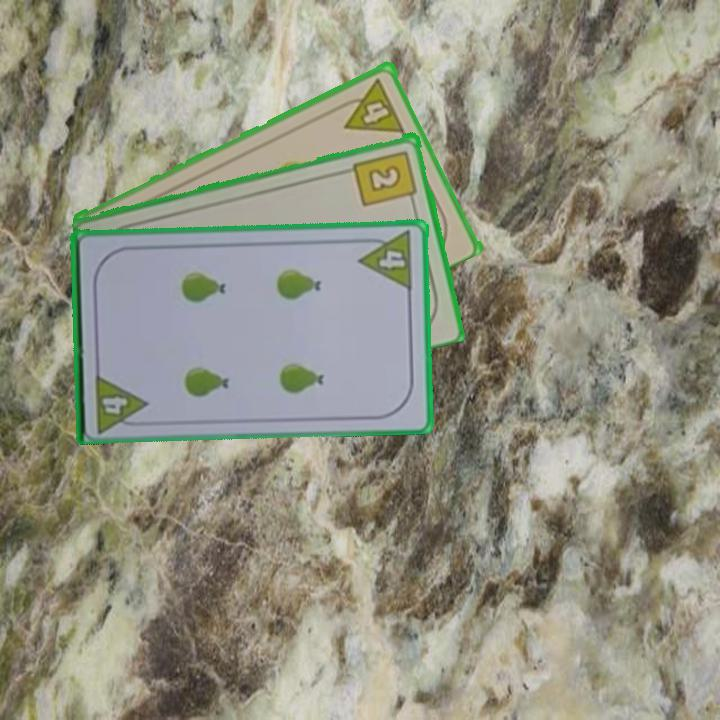2b: (350, 146, 421, 209)
4p: (333, 74, 407, 136), (355, 227, 416, 293), (91, 369, 150, 434)
